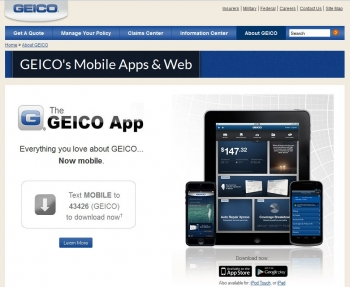Geico: (47, 111, 106, 131), (10, 2, 61, 15)
